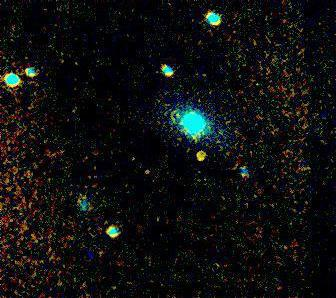star: (185, 137, 215, 167)
